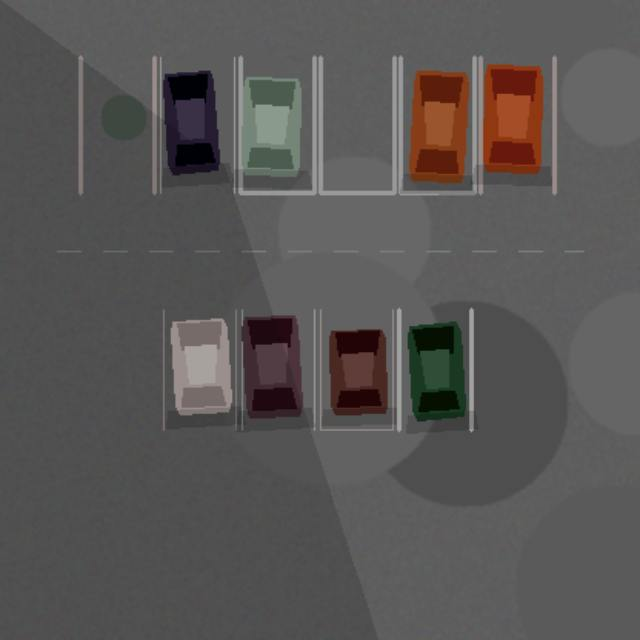space-empty: (80, 57, 154, 192), (320, 57, 394, 192)
space-occupied: (160, 57, 234, 192), (240, 57, 314, 192), (400, 57, 474, 192), (480, 57, 554, 192), (398, 309, 471, 429), (163, 309, 235, 429), (242, 309, 314, 429), (320, 309, 392, 429)
